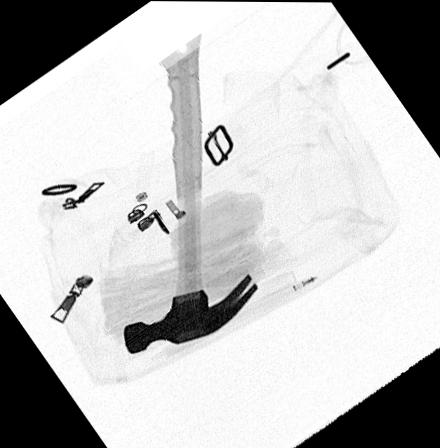Hammer: (122, 31, 259, 354)
